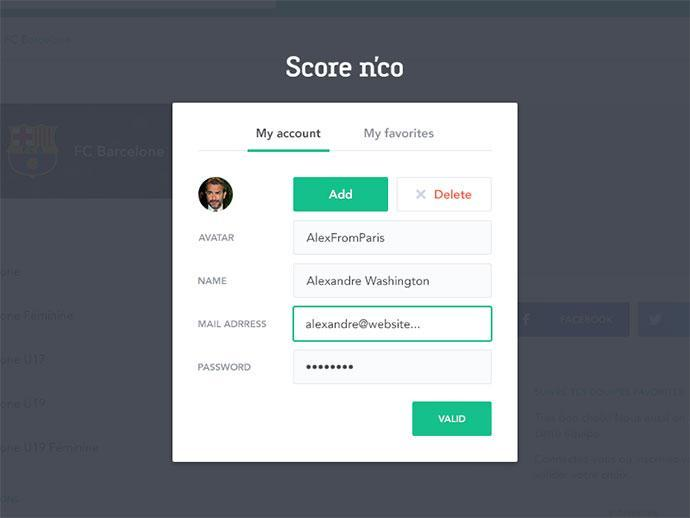button: (397, 172, 495, 213), (293, 177, 389, 213), (411, 400, 495, 440)
input: (292, 350, 494, 390), (292, 219, 495, 258), (293, 262, 495, 300), (292, 306, 495, 343)
label: (285, 53, 405, 81), (363, 125, 436, 142), (255, 128, 322, 142), (195, 319, 271, 330), (195, 361, 252, 374), (195, 234, 238, 244), (196, 276, 230, 287)
